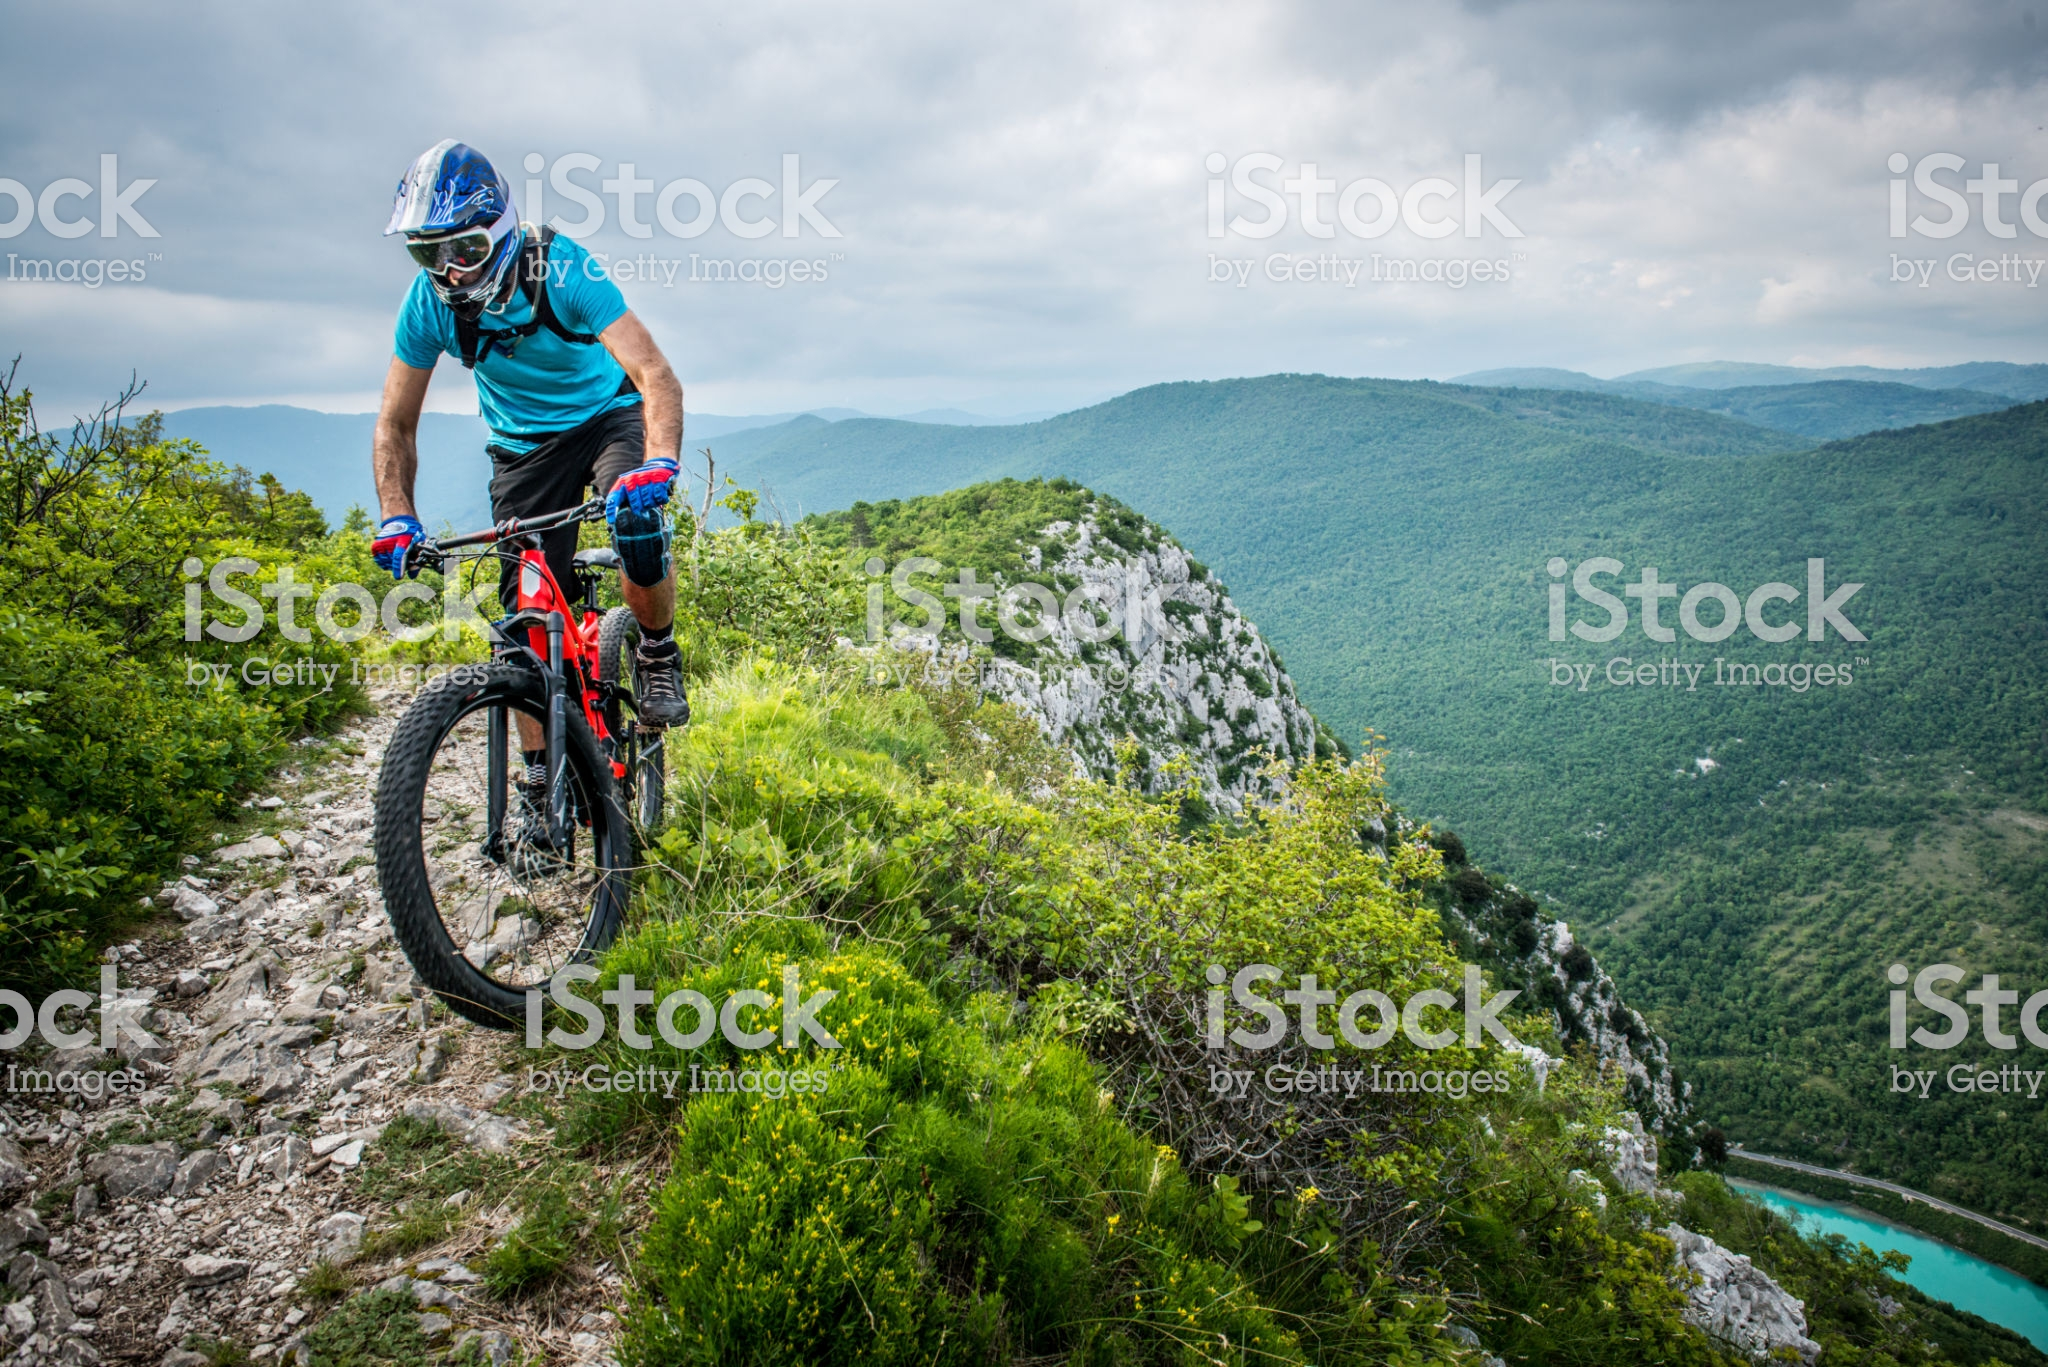helmet: (381, 151, 529, 284)
